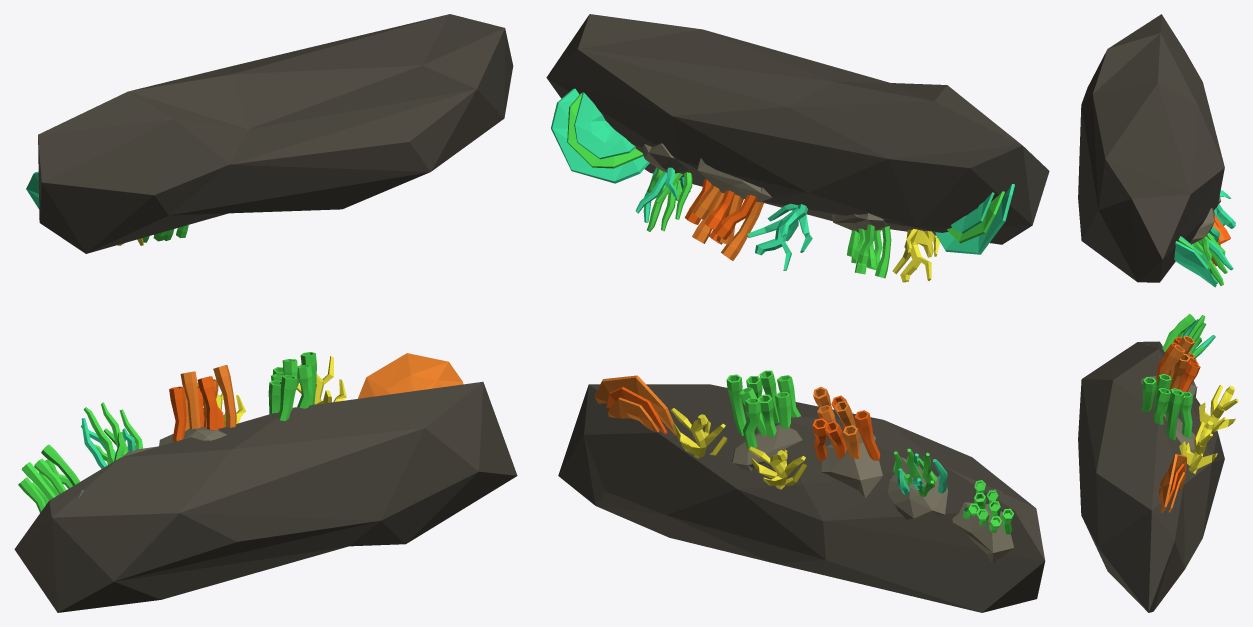
File: StraightCoral.FBX
3 views of the same model, side by side, from view 1: azimuth 30°, elevation 25°; view 2: azimuth 150°, elevation 25°; view 3: azimuth 270°, elevation 25° (orthographic). The views are drawn at different scales.
Parts seen in each view (by area): view 1: StraightCoral; view 2: StraightCoral; view 3: StraightCoral.
Part boxes in pixels (<box>): StraightCoral: <box>14,14,517,612</box>; StraightCoral: <box>546,14,1049,612</box>; StraightCoral: <box>1078,14,1238,612</box>.
Bounding box in the file's own units: 113 × 108 × 35.88.
